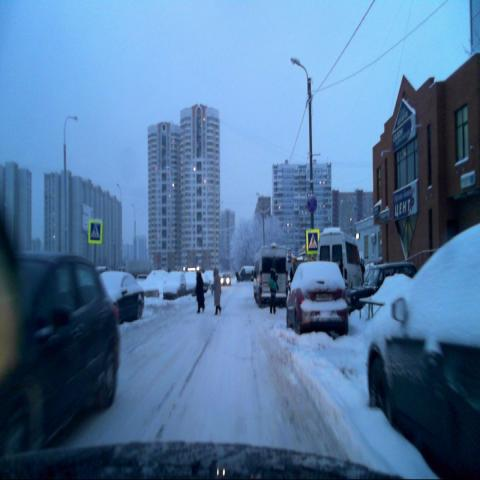3_27: (306, 195, 318, 214)
5_19_1: (306, 229, 320, 255), (88, 219, 102, 244)
